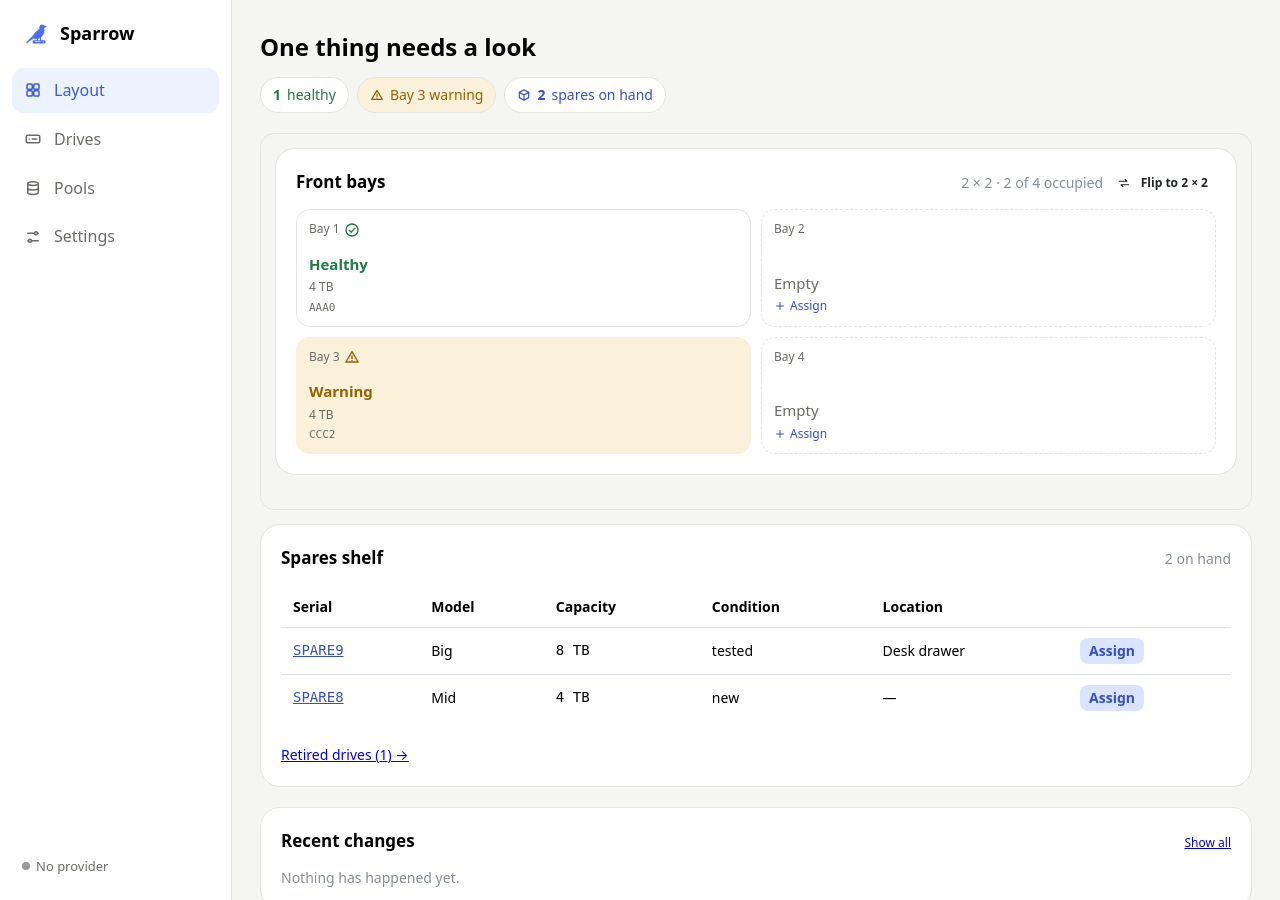
Test: Slot history (R74) › R74: an occupied bay has Drive | Slot; Slot lists every drive with how it left
The image size is (1280, 900).
What coordinates should you click on to do the following:
click the button with aria-label "Bay 3, "
I would click on:
 (324, 356)
Its box is [296, 337, 751, 454].
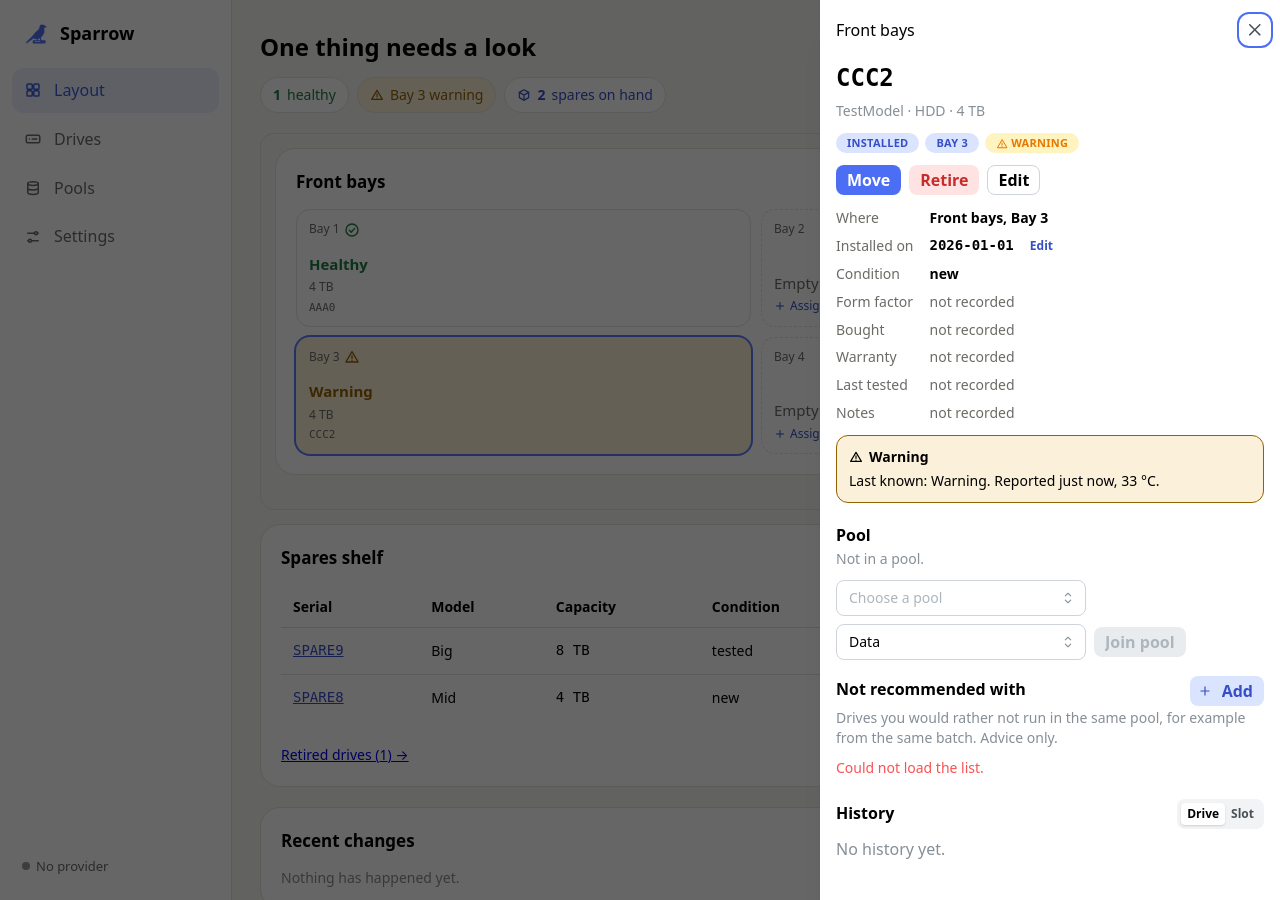
Now the radio button labelled "Drive" is checked, box [1187, 804, 1219, 822]
Now the text "No history yet." is shown, box [836, 838, 945, 860]
What coordinates should you click on to do the following:
click the radio button labelled "Slot"
I would click on:
 (1243, 813)
Its box is [1231, 804, 1254, 822].
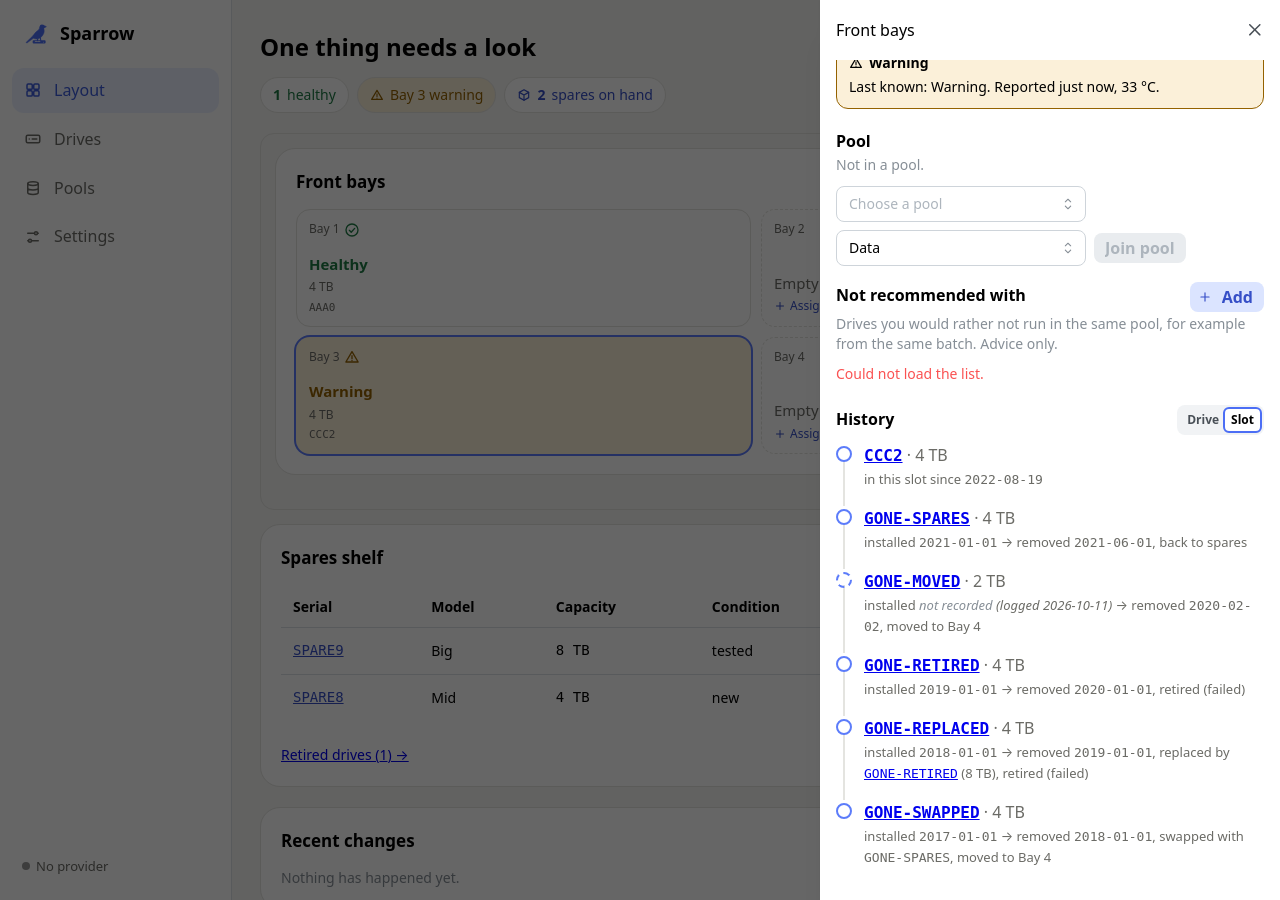
Now the text "No history yet." is gone
Now the number of list items is 6, box [836, 444, 1043, 488]; [836, 506, 1264, 569]; [836, 569, 1264, 653]; [836, 653, 1264, 716]; [836, 716, 1264, 800]; [836, 800, 1264, 884]
Now the list item "CCC2 · 4 TB in this slot since 2022-08-19" is shown, box [836, 444, 1043, 488]
